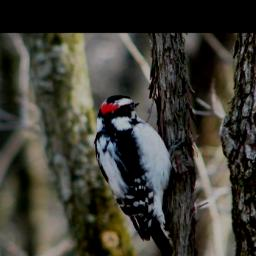Woodpecker: (89, 95, 184, 256)
